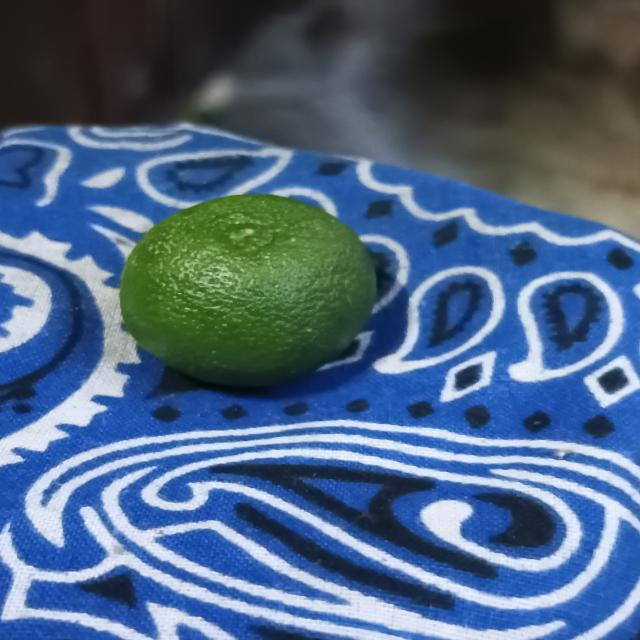heathy: (114, 187, 390, 391)
